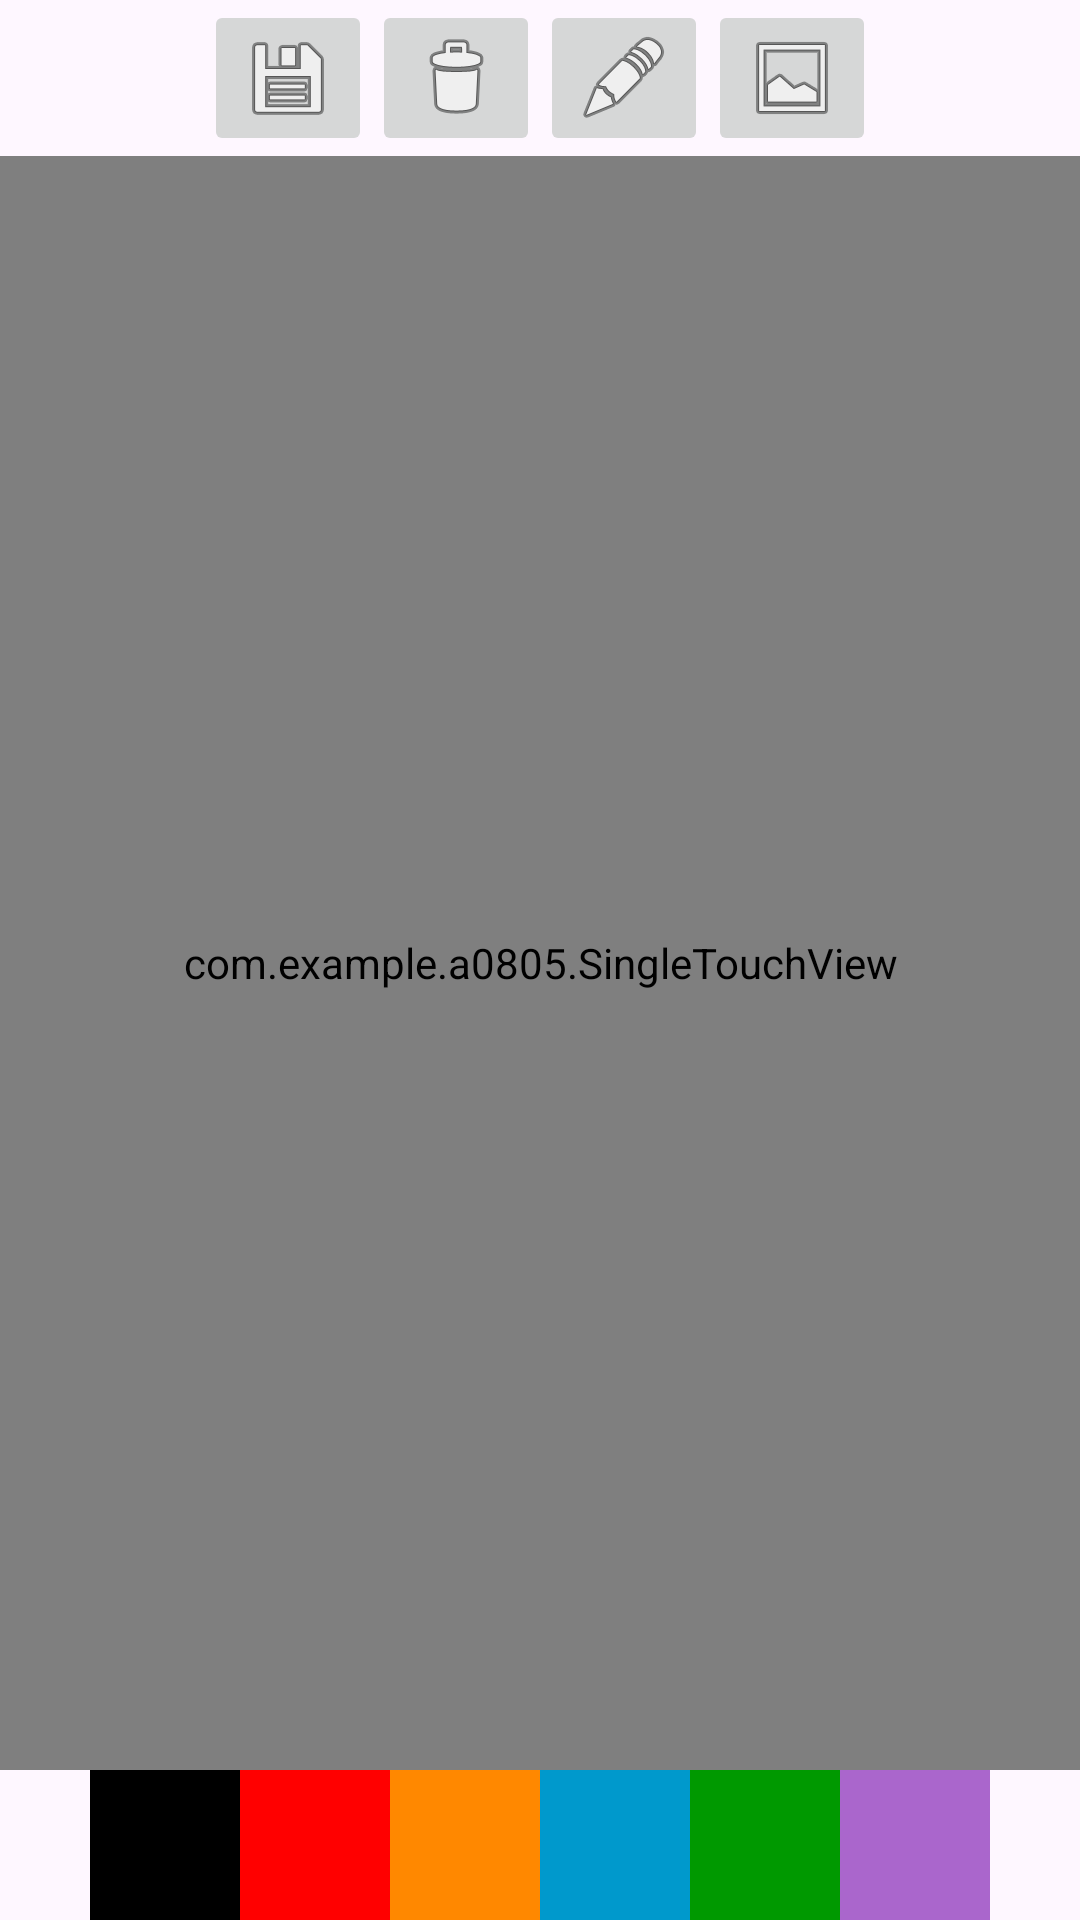

Named icons in this screenshot (1080 x 1920) and their centers, [x,y]:
delete: [456,78]
edit: [624,78]
gallery: [792,78]
save: [288,78]
